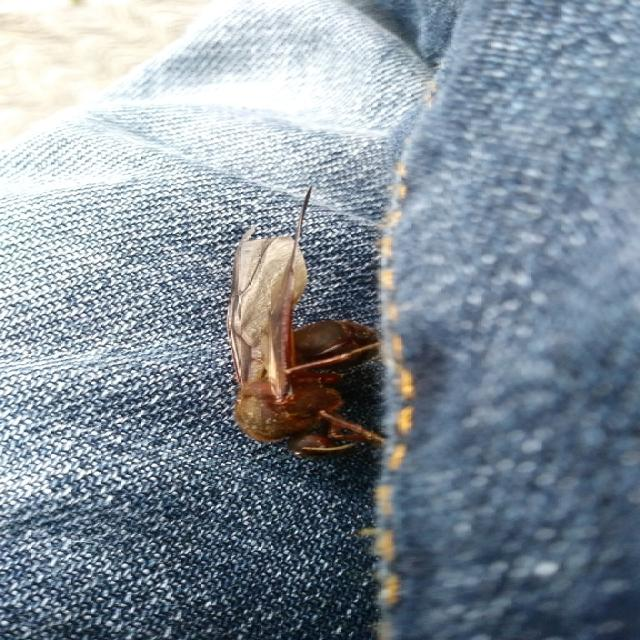Alive-Female-Alate: (226, 186, 387, 458)
